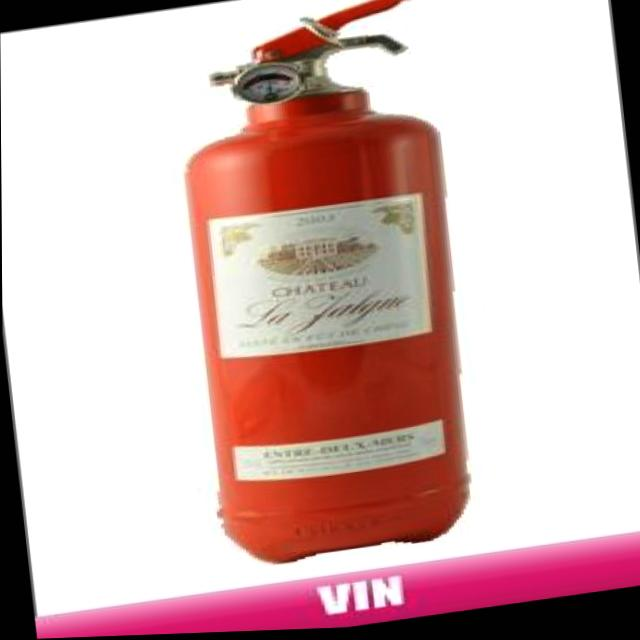FireExtinguisher: (147, 0, 493, 578)
